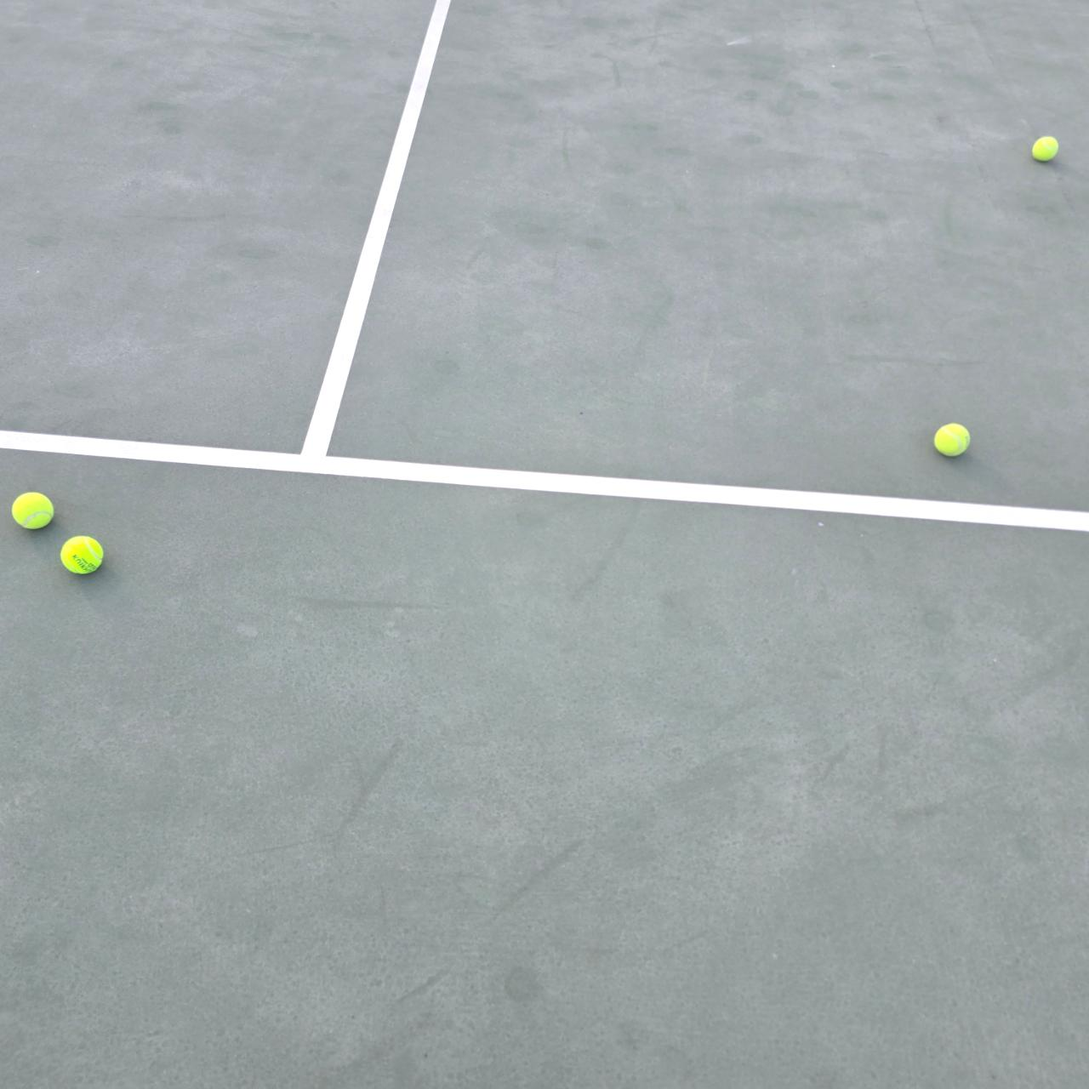tennis-ball: (60, 533, 105, 576), (11, 488, 56, 530), (932, 419, 972, 458), (1031, 133, 1061, 162)
